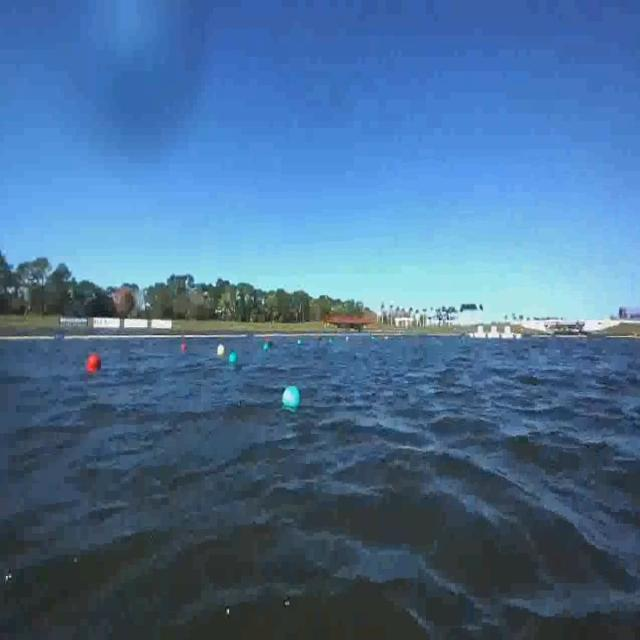green-buoy: (282, 384, 300, 408)
red-buoy: (87, 350, 103, 373)
